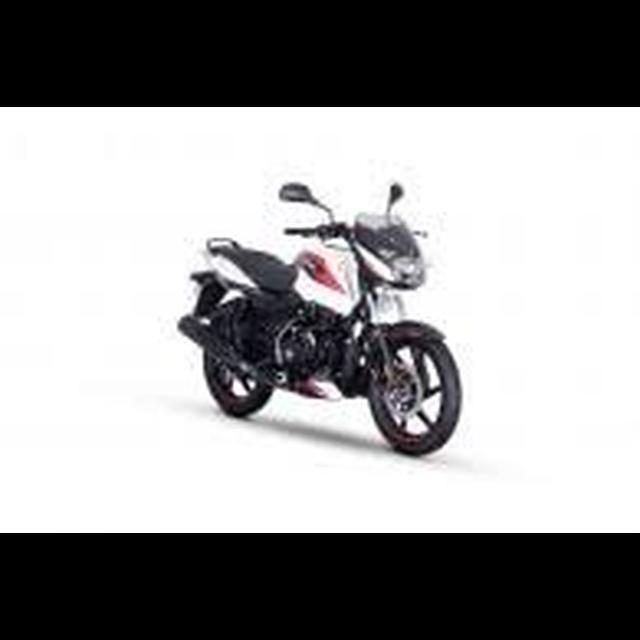motorcycle: (169, 177, 467, 461)
